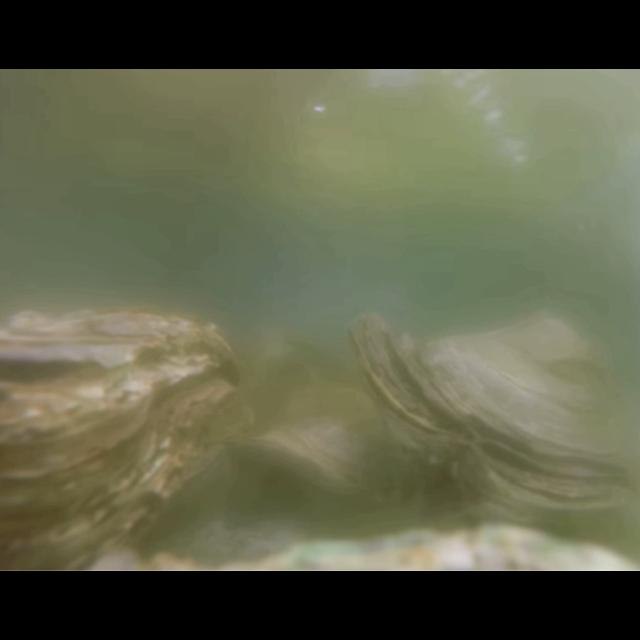Oyster-Closed: (1, 311, 258, 571), (346, 310, 640, 522), (232, 384, 402, 504)
